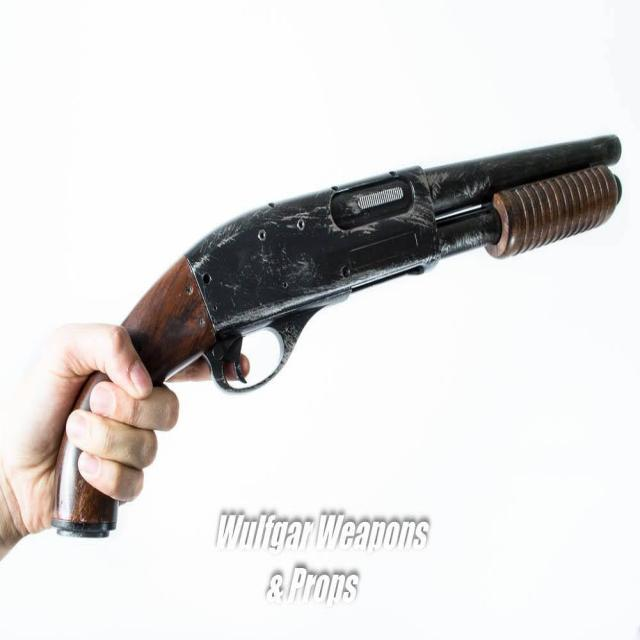ShotGun: (58, 136, 624, 527)
